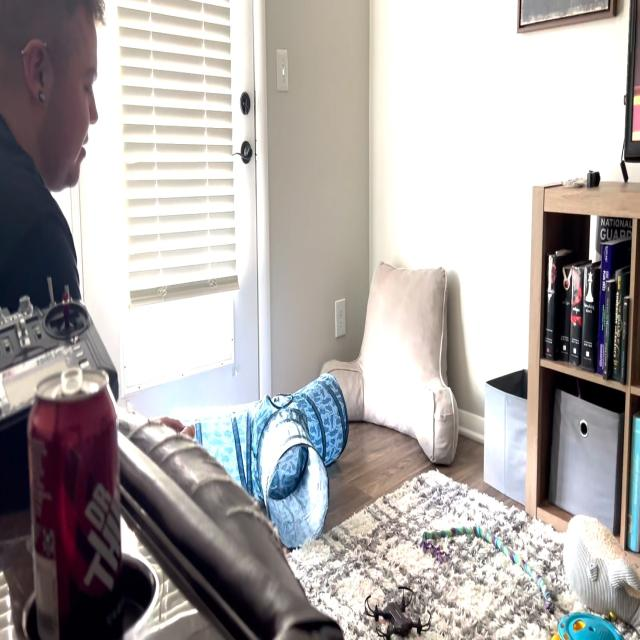drone: (353, 571, 440, 640)
